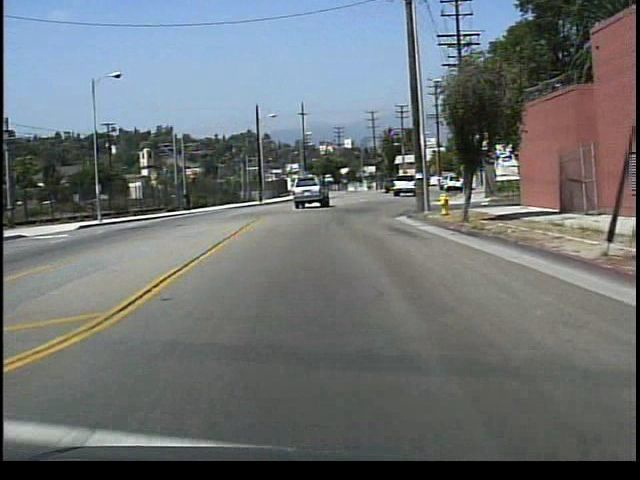person: (183, 188, 192, 212)
